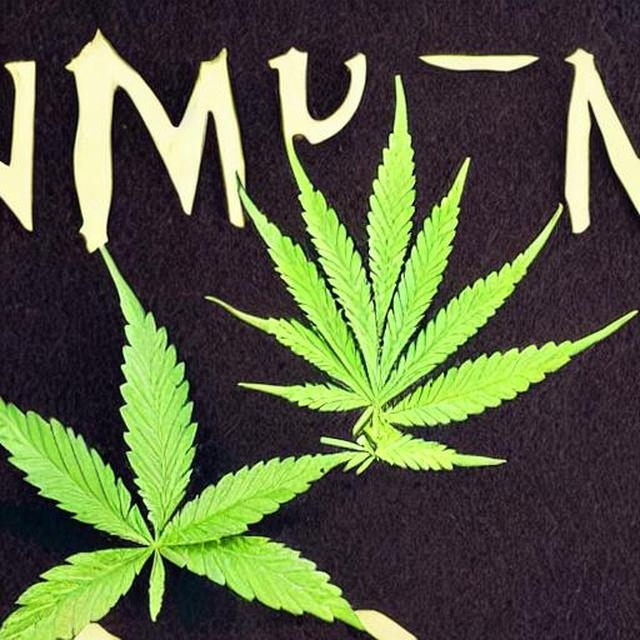Marijuana Leaf: (202, 72, 639, 476), (0, 244, 375, 639)
